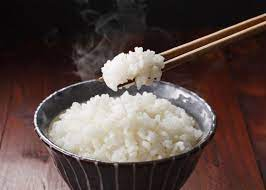ssalbab: (47, 90, 206, 160), (100, 44, 166, 92)
